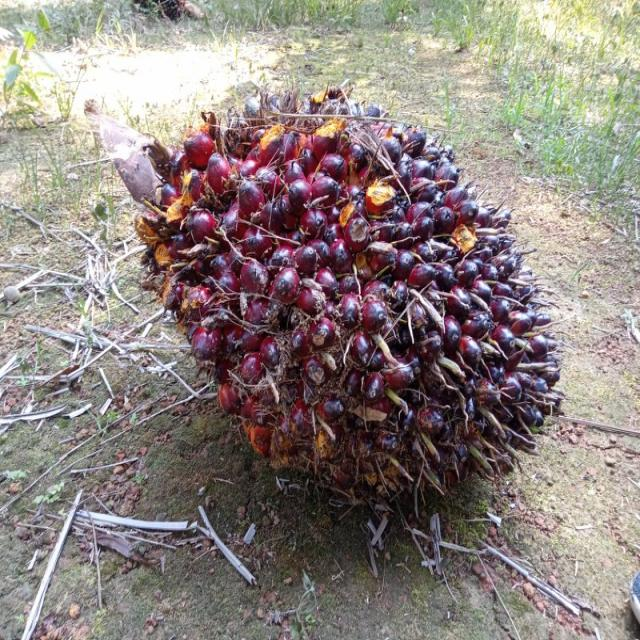fraksi 1: (116, 69, 583, 585)
